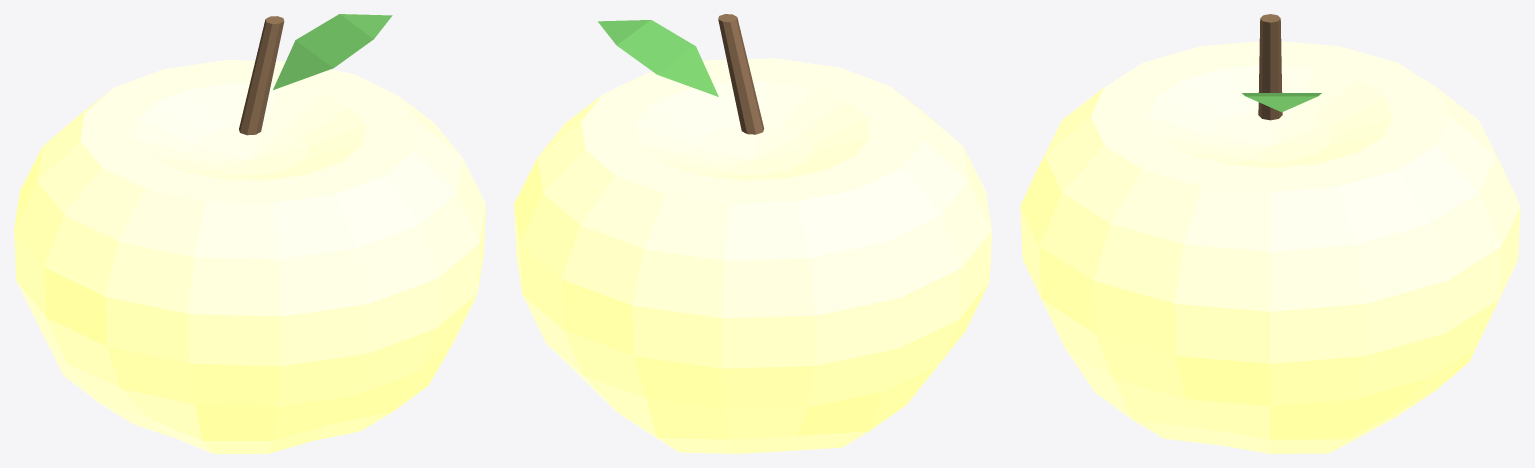
Rendered from GoldenBonusApple.fbx.
3 views of the same model, side by side, from view 1: azimuth 30°, elevation 25°; view 2: azimuth 150°, elevation 25°; view 3: azimuth 270°, elevation 25° (orthographic). The views are drawn at different scales.
Visible parts, largest first — view 1: GoldenBonusApple; view 2: GoldenBonusApple; view 3: GoldenBonusApple.
Boxes of the visible parts, <box> form: GoldenBonusApple: <box>14,14,485,453</box>; GoldenBonusApple: <box>514,14,991,453</box>; GoldenBonusApple: <box>1020,14,1520,453</box>.
Bounding box in the file's own units: 0.0992 × 0.0872 × 0.0992.
